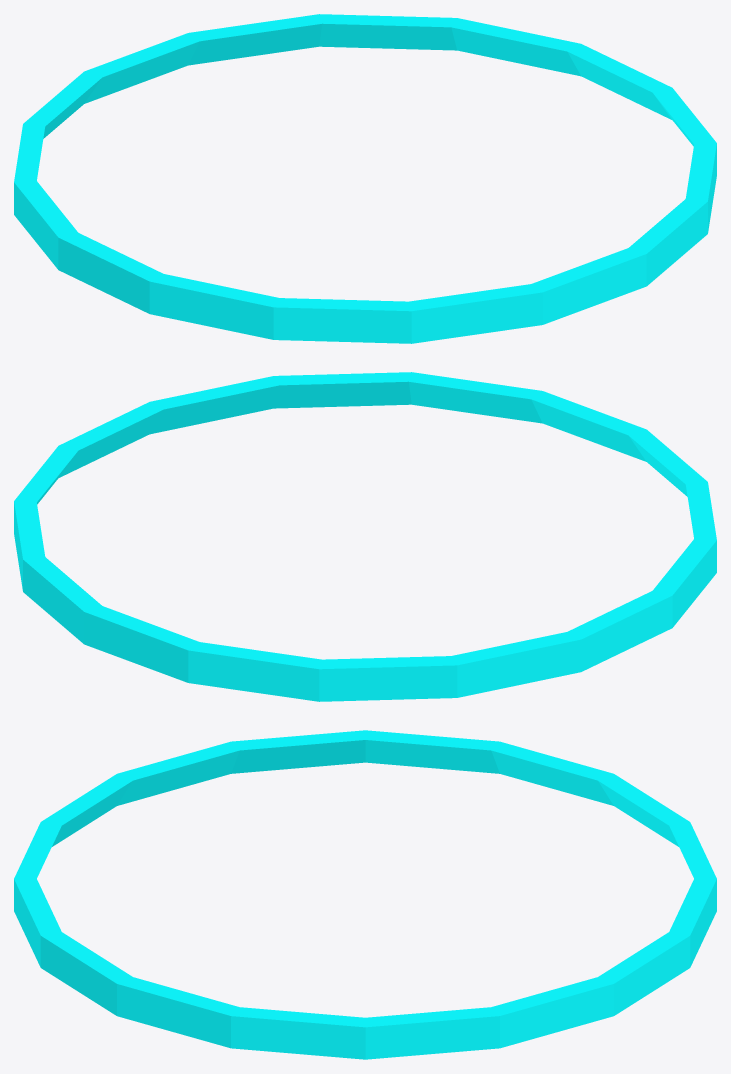
File: Ring_Blue_Light.glb
The picture shows the model from 3 angles, top to bottom: view 1: azimuth 30°, elevation 25°; view 2: azimuth 150°, elevation 25°; view 3: azimuth 270°, elevation 25°; orthographic projection.
Parts seen in each view (by area): view 1: Cylinder.007; view 2: Cylinder.007; view 3: Cylinder.007.
Boxes of the visible parts, x1,y1,x2,y2 form: Cylinder.007: [14, 14, 716, 343]; Cylinder.007: [14, 372, 716, 701]; Cylinder.007: [14, 730, 716, 1059].
Size of what is drawn, in the model's own units: 2 by 0.1015 by 2.
Materials: 1 (1 with a texture image).
